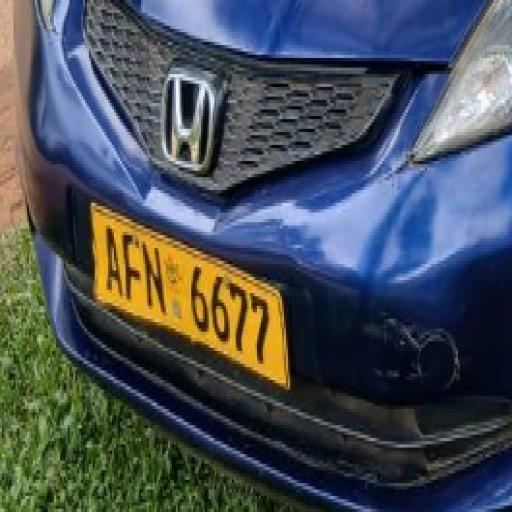number-plates: (90, 202, 278, 378)
